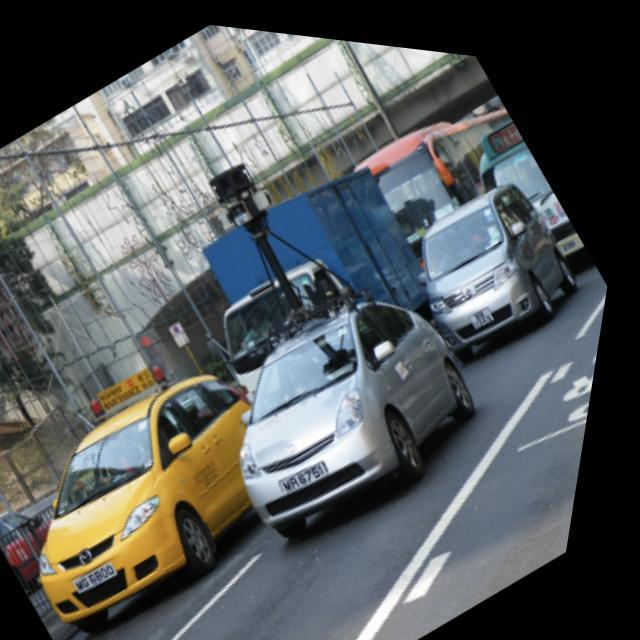license_plate: (289, 440, 349, 496), (86, 546, 142, 596), (465, 286, 510, 328), (556, 214, 590, 247)
